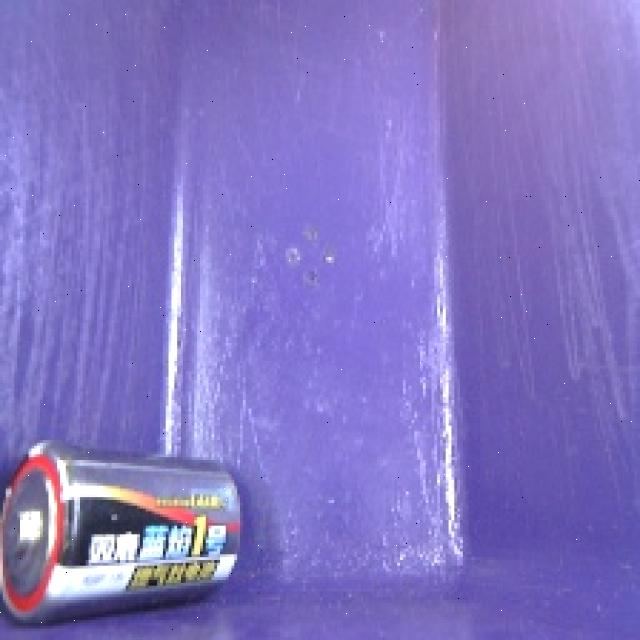battery: (0, 436, 249, 634)
